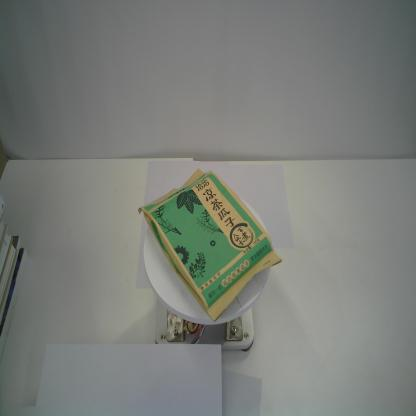Dried Food: (137, 167, 284, 323)
